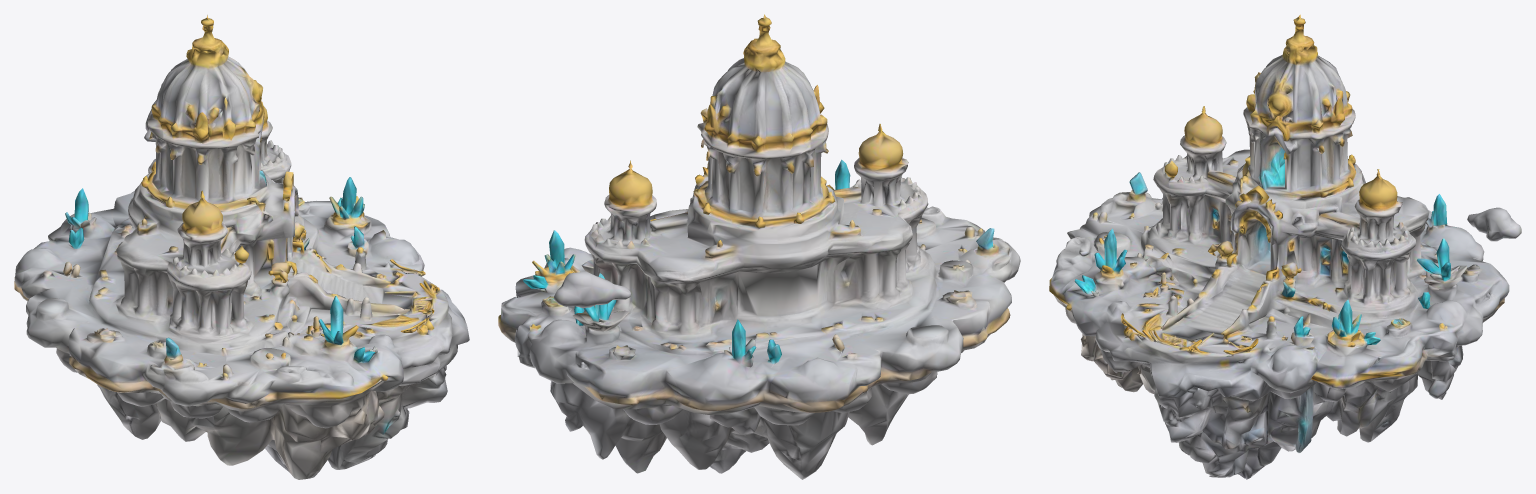
File: gods-sky-island.glb
3 views of the same model, side by side, from view 1: azimuth 30°, elevation 25°; view 2: azimuth 150°, elevation 25°; view 3: azimuth 270°, elevation 25° (orthographic). The views are drawn at different scales.
Parts seen in each view (by area): view 1: tripo_node_e757647f-486a-44fe-84c0-3ff0d28b82ab; view 2: tripo_node_e757647f-486a-44fe-84c0-3ff0d28b82ab; view 3: tripo_node_e757647f-486a-44fe-84c0-3ff0d28b82ab.
Boxes of the visible parts, x1=… form: tripo_node_e757647f-486a-44fe-84c0-3ff0d28b82ab: x1=14, y1=15, x2=469, y2=479; tripo_node_e757647f-486a-44fe-84c0-3ff0d28b82ab: x1=498, y1=14, x2=1020, y2=479; tripo_node_e757647f-486a-44fe-84c0-3ff0d28b82ab: x1=1049, y1=14, x2=1521, y2=479.
Bounding box in the file's own units: 0.7948 × 0.9036 × 0.8956.
Materials: 1 (1 with a texture image).
